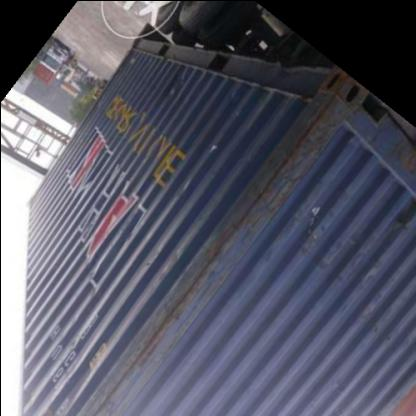Damage: (254, 81, 350, 220), (160, 188, 247, 330), (94, 314, 178, 404)
